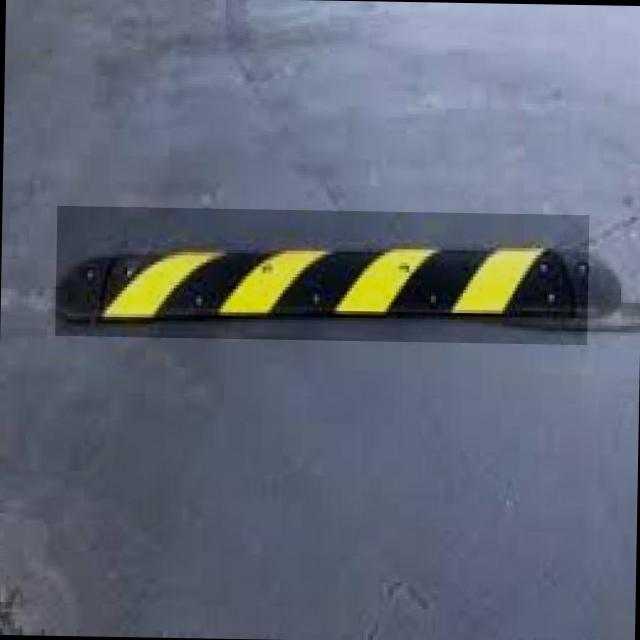bump: (55, 206, 589, 344)
